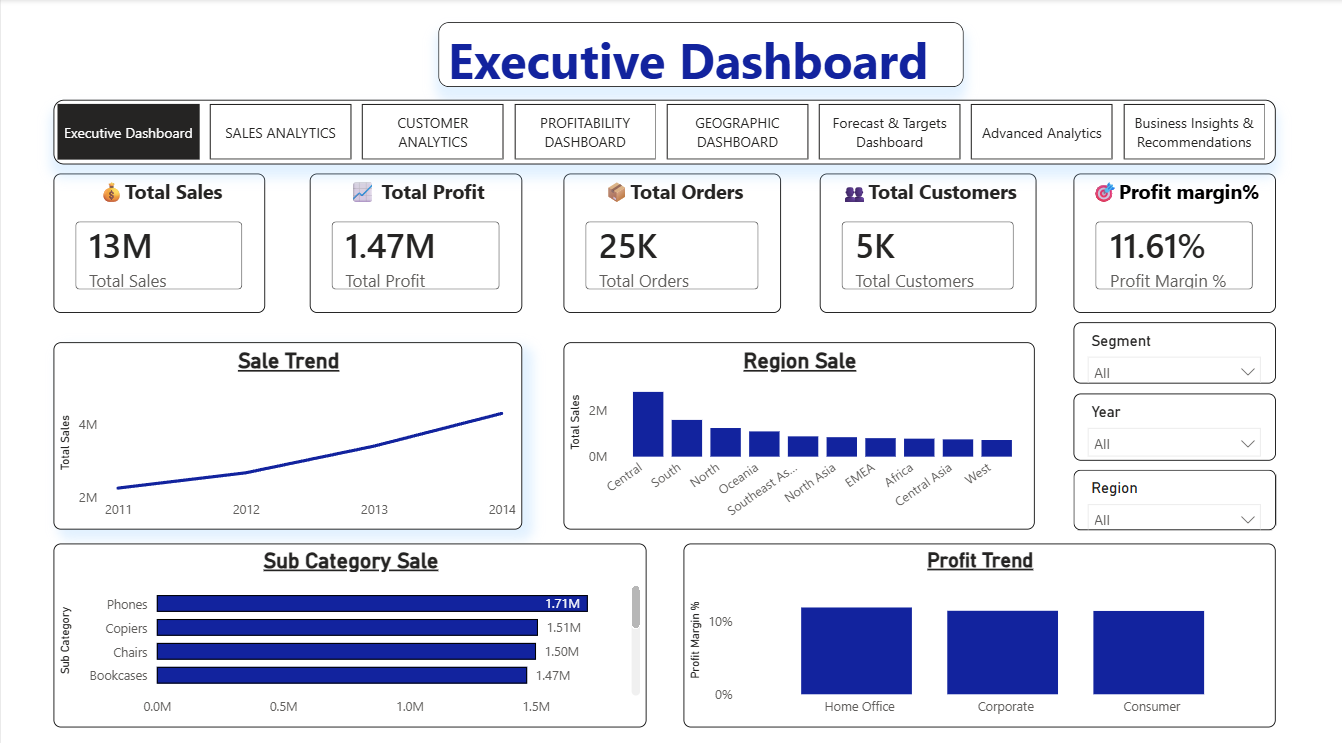

Layout of this report page (visuals, bound fields, positions):
{"tool":"powerbi","page":{"name":"Executive Dashboard","canvas":[1280,720],"ordinal":0},"visuals":[{"type":"cardVisual","title":"💰Total Sales","fields":{"Data":["superstore.Total Sales"]},"box":[50,168.8,201.2,132.5],"z":0},{"type":"cardVisual","title":"📈 Total Profit","fields":{"Data":["superstore.Total Profit"]},"box":[293.8,168.8,202.5,132.5],"z":1000},{"type":"cardVisual","title":"📦Total Orders","fields":{"Data":["superstore.Total Orders"]},"box":[536.2,168.8,207.5,132.5],"z":2000},{"type":"cardVisual","title":"👥Total Customers","fields":{"Data":["superstore.Total Customers"]},"box":[780,168.8,206.2,132.5],"z":3000},{"type":"cardVisual","title":"🎯Profit margin%","fields":{"Data":["superstore.Profit Margin %"]},"box":[1021.2,168.8,192.5,132.5],"z":4000},{"type":"lineChart","title":"Sale Trend","fields":{"Category":["Calender.Date.Variation.Date Hierarchy.Year","Calender.Date.Variation.Date Hierarchy.Quarter","Calender.Date.Variation.Date Hierarchy.Month","Calender.Date.Variation.Date Hierarchy.Day"],"Y":["superstore.Total Sales"]},"box":[50,330,446.2,178.8],"z":5000},{"type":"clusteredColumnChart","title":" Region Sale","fields":{"Category":["Dim Geography.Region"],"Y":["superstore.Total Sales"]},"box":[536.2,330,448.8,178.8],"z":6000},{"type":"clusteredBarChart","title":" Sub Category Sale","fields":{"Category":["superstore.Sub Category"],"Y":["superstore.Total Sales"]},"box":[50,521.2,565,175],"z":7000},{"type":"clusteredColumnChart","title":"Profit Trend","fields":{"Category":["superstore.Segment"],"Y":["superstore.Profit Margin %"]},"box":[650,521.2,563.8,175],"z":8000},{"type":"textbox","title":"Executive Dashboard","box":[416.2,25,500,61.2],"z":9000},{"type":"slicer","fields":{"Values":["superstore.Segment"]},"box":[1021.2,311.2,192.5,58.8],"z":10000},{"type":"slicer","fields":{"Values":["Calender.Year"]},"box":[1021.2,378.8,192.5,63.8],"z":11000},{"type":"slicer","fields":{"Values":["superstore.Region"]},"box":[1021.2,451.2,192.5,57.5],"z":12000},{"type":"pageNavigator","box":[50,98.8,1163.8,61.2],"z":13000}]}

Visuals, with their boxes in screenshot pixels (x1, y1, x2, y2), scaled from the page's 1280x720 canvas onto the 1342x743 screenshot:
"💰Total Sales" cardVisual: [left=52, top=174, right=263, bottom=311]
"📈 Total Profit" cardVisual: [left=308, top=174, right=520, bottom=311]
"📦Total Orders" cardVisual: [left=562, top=174, right=780, bottom=311]
"👥Total Customers" cardVisual: [left=818, top=174, right=1034, bottom=311]
"🎯Profit margin%" cardVisual: [left=1071, top=174, right=1272, bottom=311]
"Sale Trend" lineChart: [left=52, top=341, right=520, bottom=525]
" Region Sale" clusteredColumnChart: [left=562, top=341, right=1033, bottom=525]
" Sub Category Sale" clusteredBarChart: [left=52, top=538, right=645, bottom=718]
"Profit Trend" clusteredColumnChart: [left=681, top=538, right=1273, bottom=718]
"Executive Dashboard" textbox: [left=436, top=26, right=961, bottom=89]
slicer - superstore.Segment: [left=1071, top=321, right=1272, bottom=382]
slicer - Calender.Year: [left=1071, top=391, right=1272, bottom=457]
slicer - superstore.Region: [left=1071, top=466, right=1272, bottom=525]
pageNavigator: [left=52, top=102, right=1273, bottom=165]
